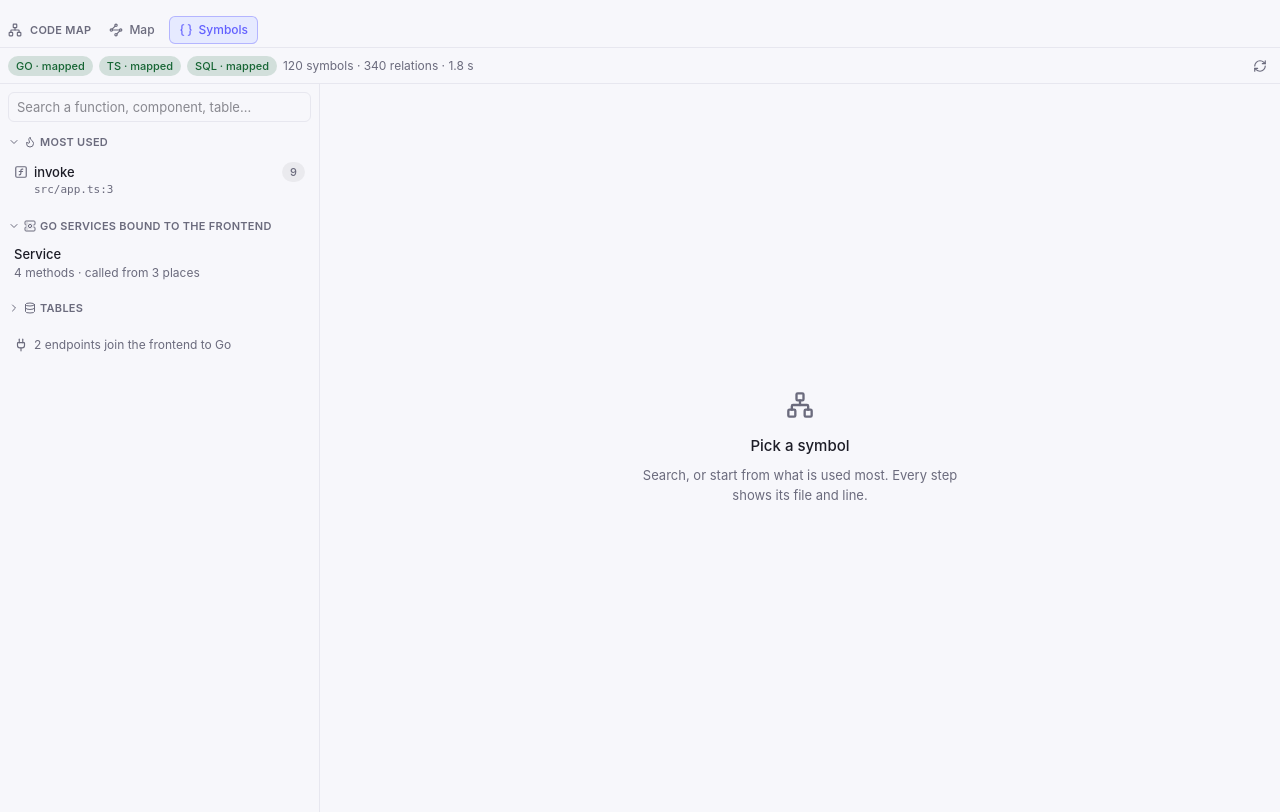
Test case: CodemapView › goes back to the symbol it came from
The image size is (1280, 812).
Expected: the button "Most used" is shown, [4,130,112,154]
Click the button with aria-label "function invoke": x=54, y=172 [34,162,75,182]
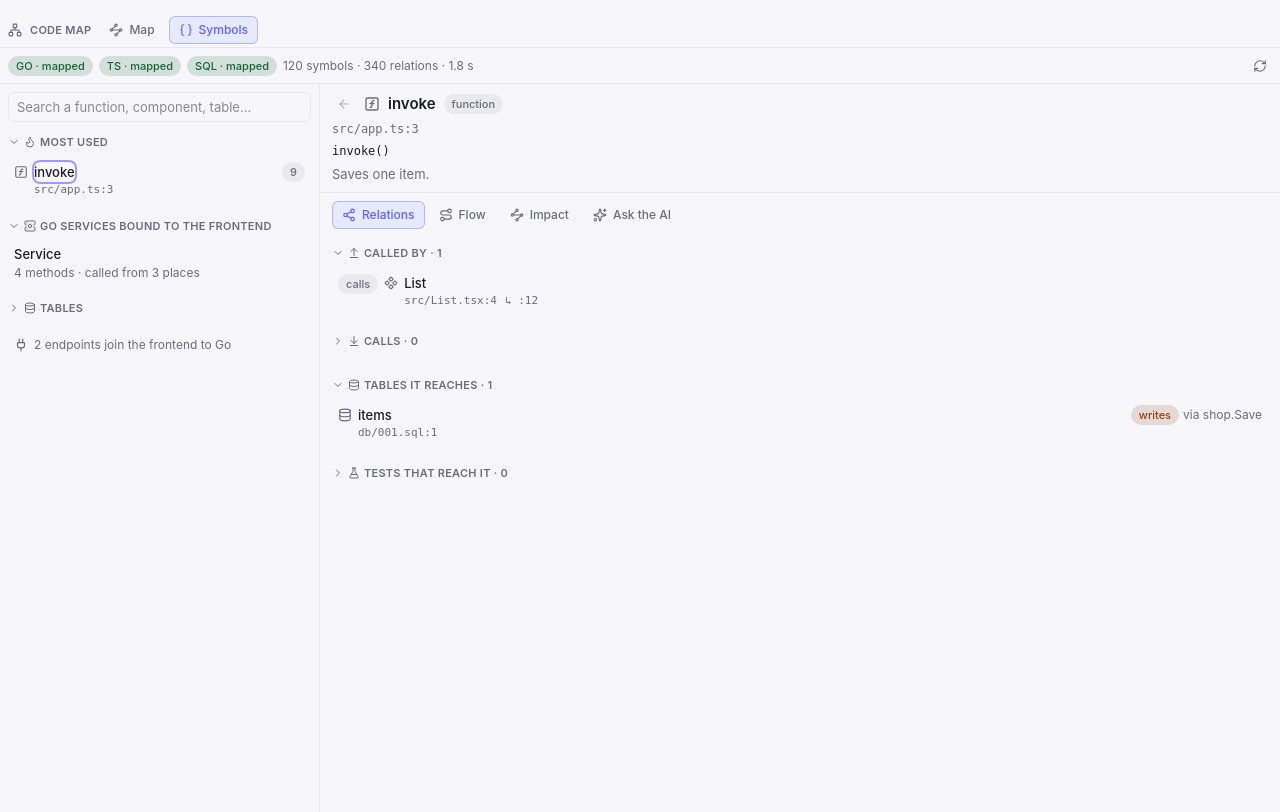
Expected: the heading "invoke" is shown, [388,93,436,115]
Click the button "List": x=415, y=283 [404,273,426,293]
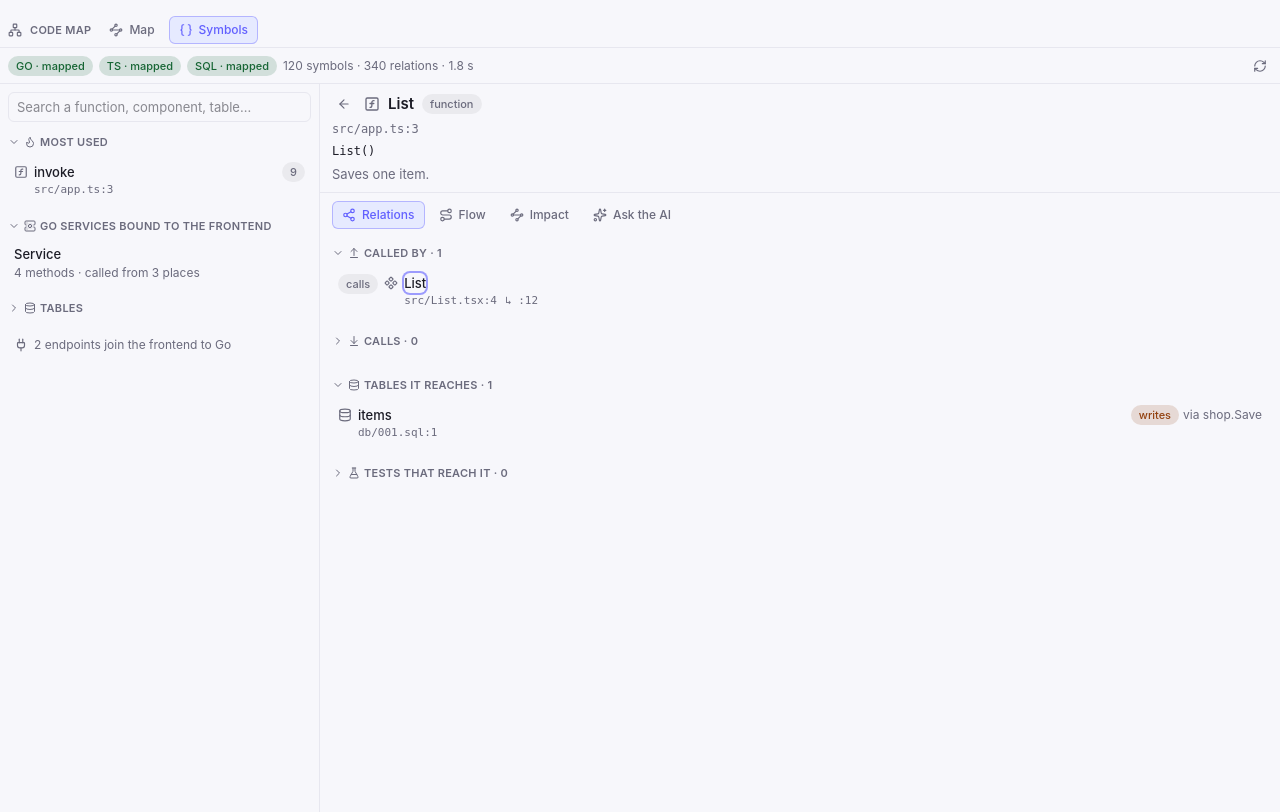
Expected: the heading "List" is shown, [388,93,414,115]
Click the button named "Back to the previous symbol": x=344, y=104 [332,92,356,116]
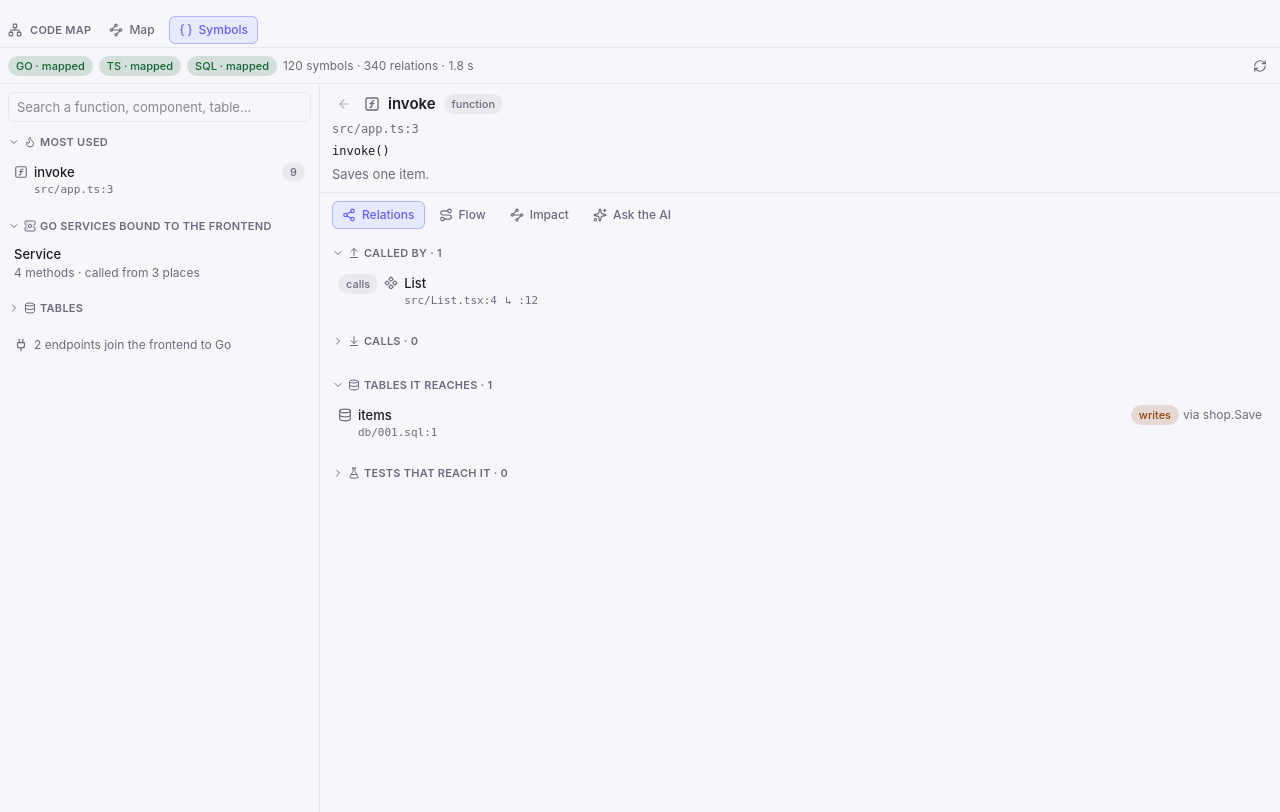
Expected: the heading "invoke" is shown, [388,93,436,115]
